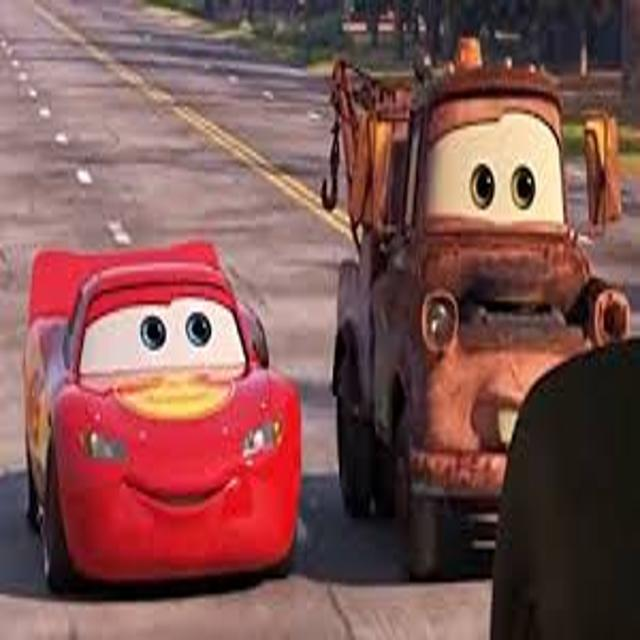car: (331, 57, 629, 578), (24, 243, 302, 588)
